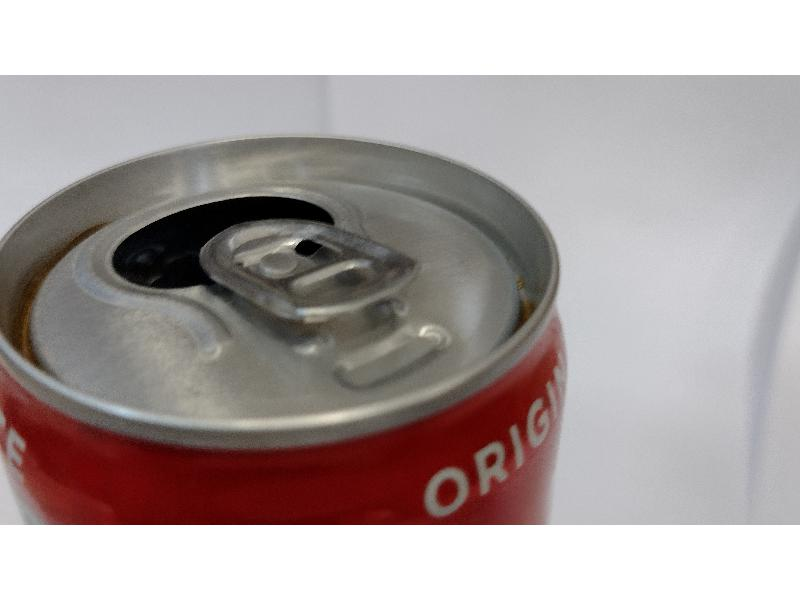can: (2, 124, 580, 525)
